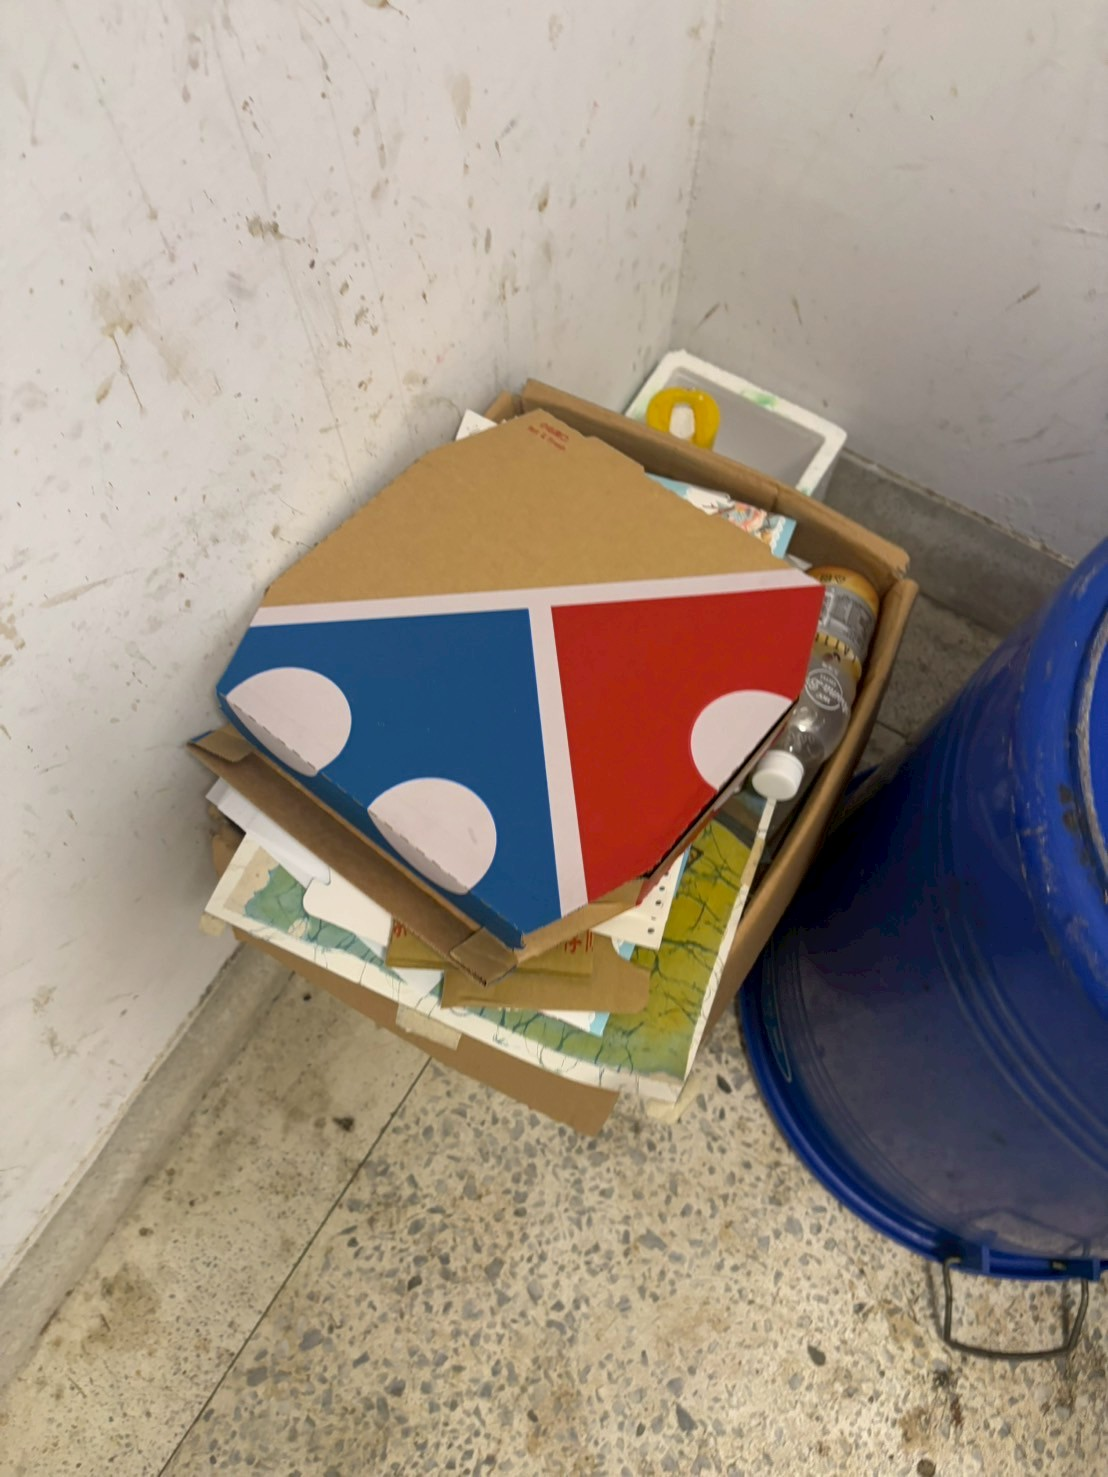overflow_bin: (151, 315, 905, 1214)
